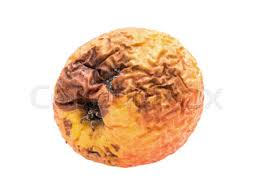damaged_apple: (51, 26, 208, 169)
